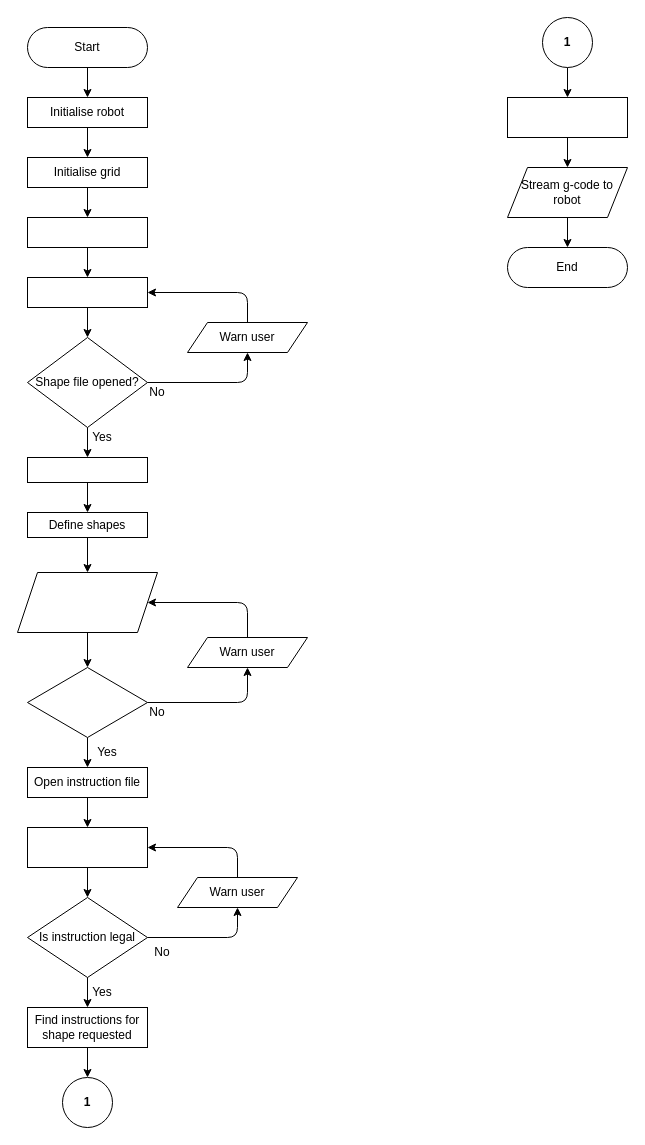
This 645x1145 diagram has some shape labels left out. Here are the shapes that lost their labels. From the top down, the centre of each, then its label:
At (567,117): "Generate g-code for required shape".
At (87,232): "Initialise cells".
At (87,292): "Open shape file".
At (87,469): "Read shape file".
At (87,602): "User enters name of instruction file".
At (87,702): "Does file exist?".
At (87,847): "Read next line in instruction file".
